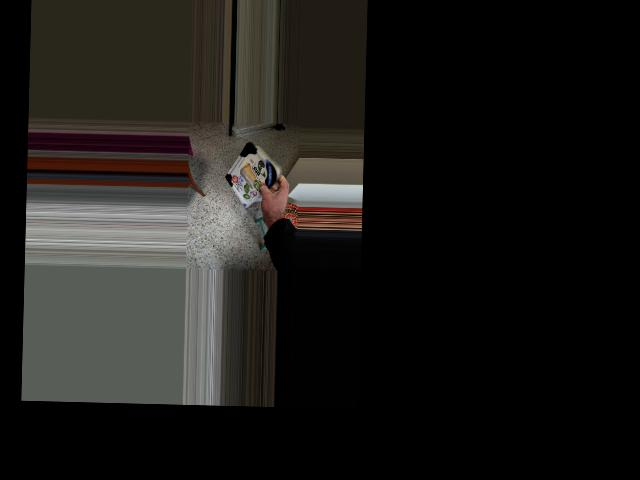cheese: (218, 143, 294, 198)
